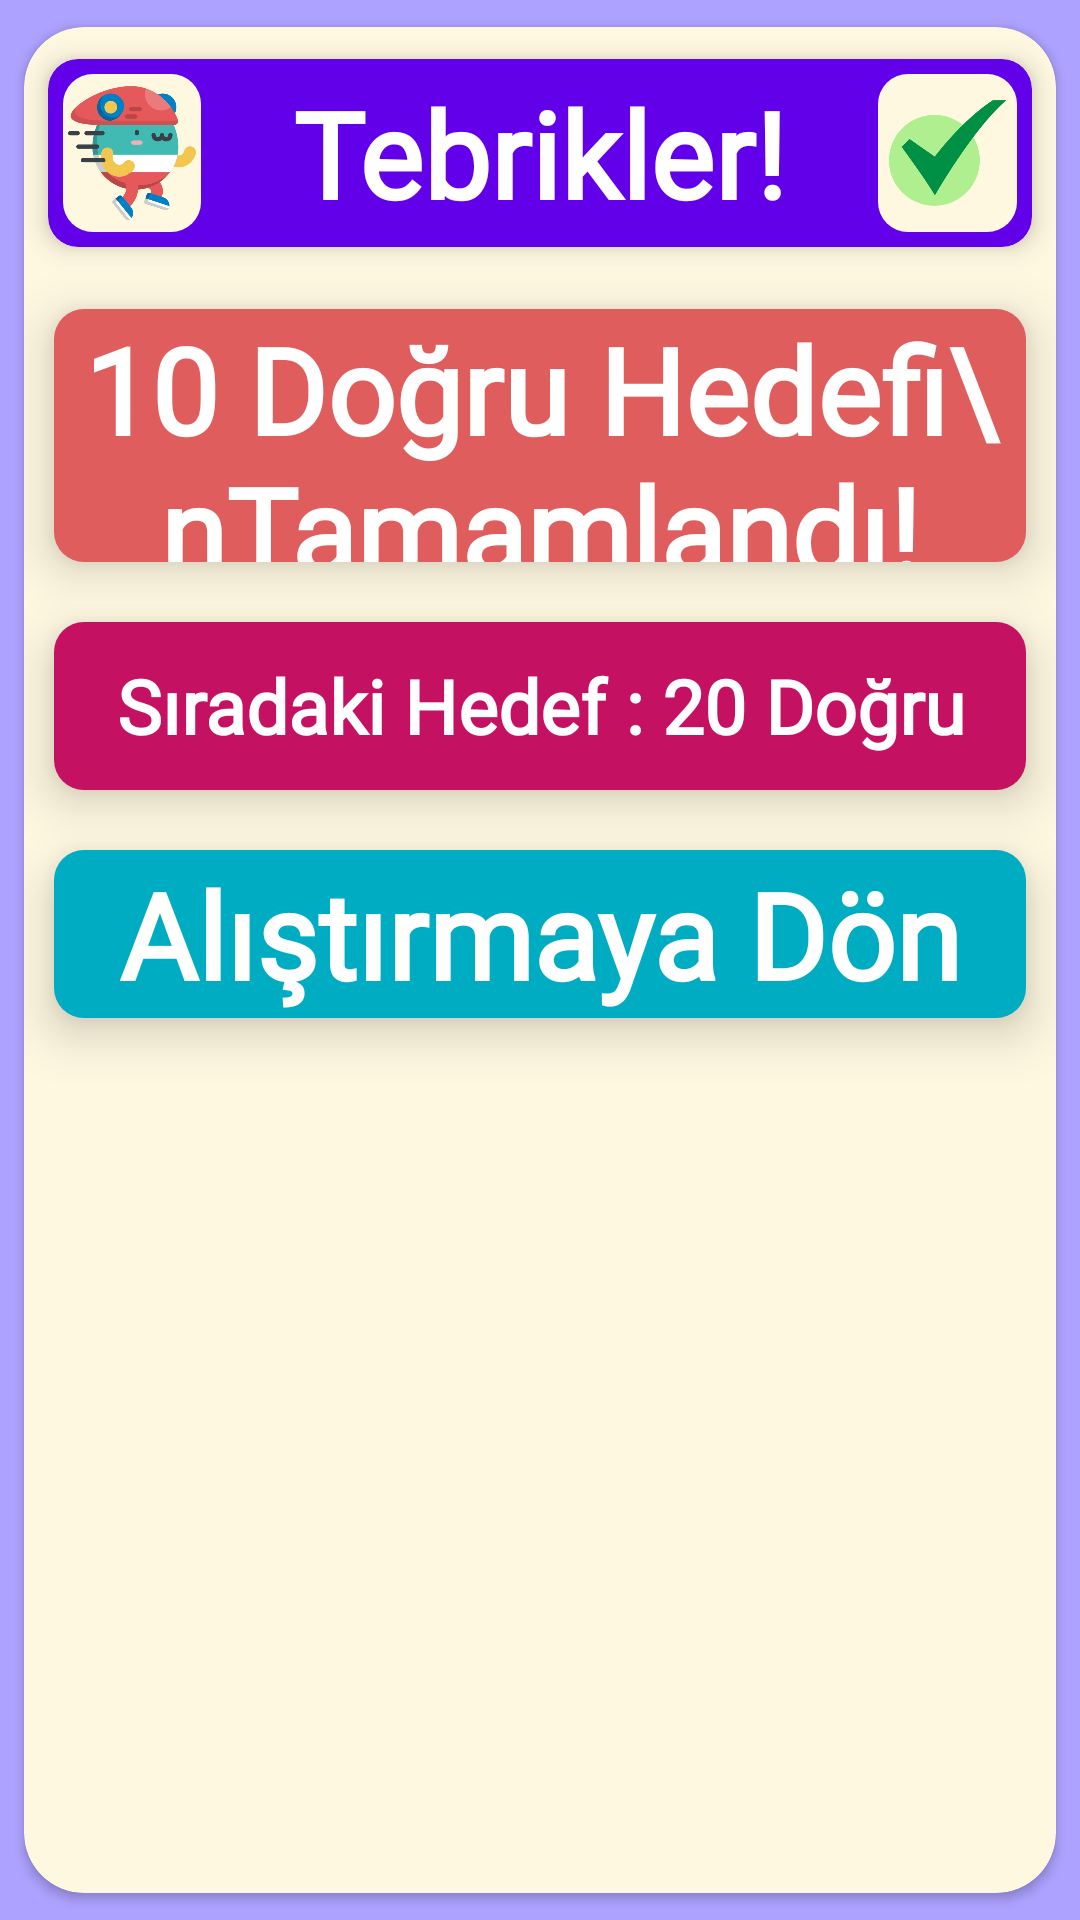

Where to tap for icons on this 1080 x 1920 app screen, as (x=x, y=y):
correct: (x=947, y=153)
runwords: (x=132, y=153)
